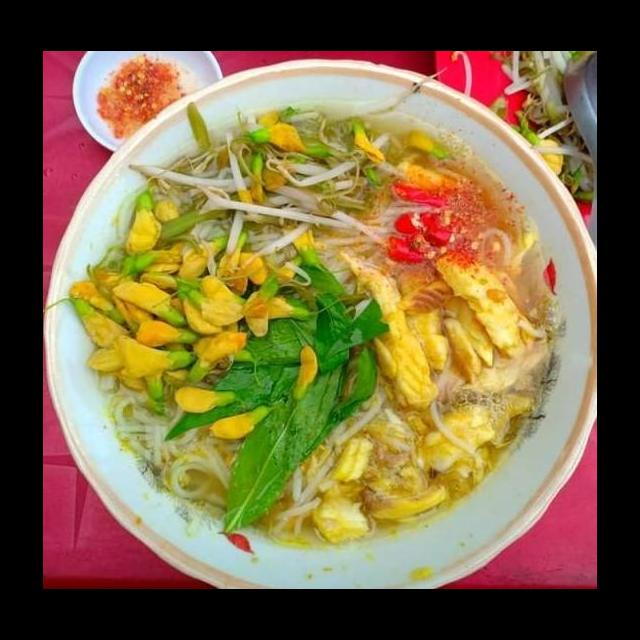bun: (257, 369, 418, 545), (102, 391, 247, 516)
bun ca: (60, 91, 569, 567)
ca: (342, 255, 450, 415), (434, 242, 547, 372)
rau ram: (159, 247, 395, 537)
